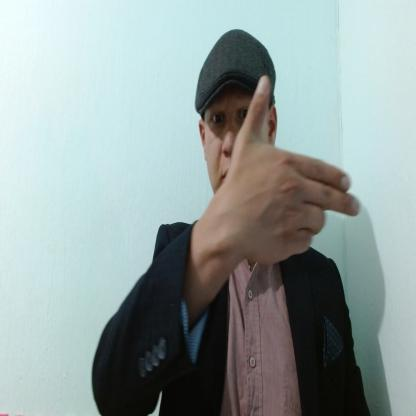H: (231, 73, 360, 263)
